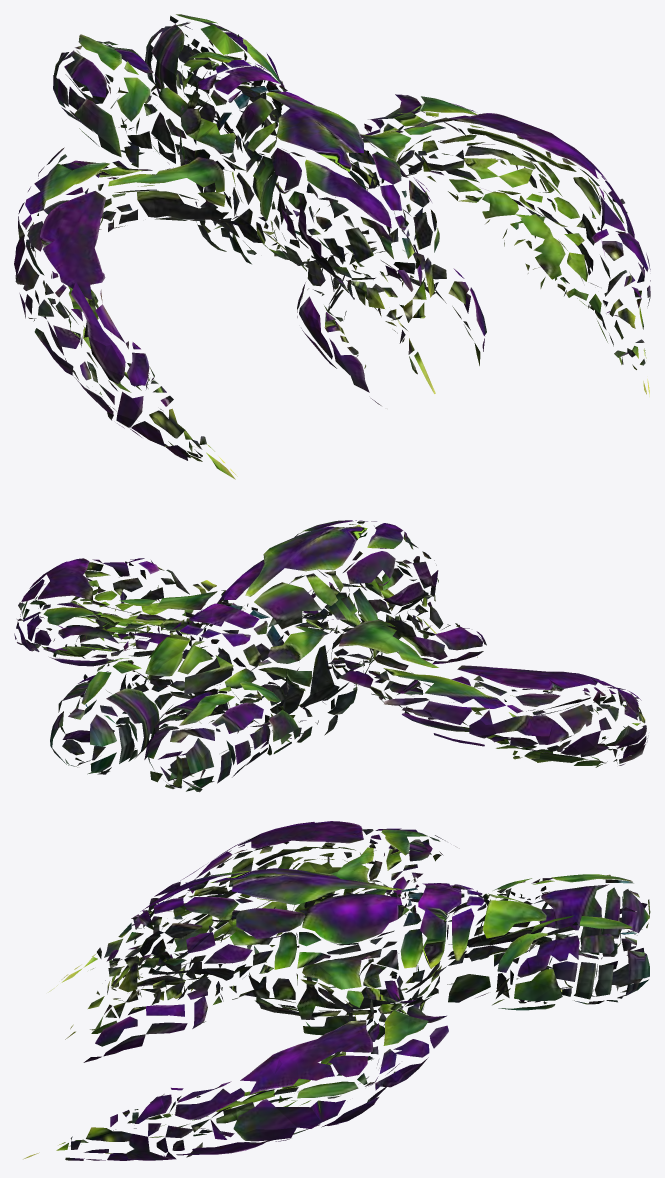
3 views of the same model, one above another, from view 1: azimuth 30°, elevation 25°; view 2: azimuth 150°, elevation 25°; view 3: azimuth 270°, elevation 25° (orthographic). The views are drawn at different scales.
Bounding box in the file's own units: 1.83 × 0.6812 × 1.88.
1 material, 1 textured.
